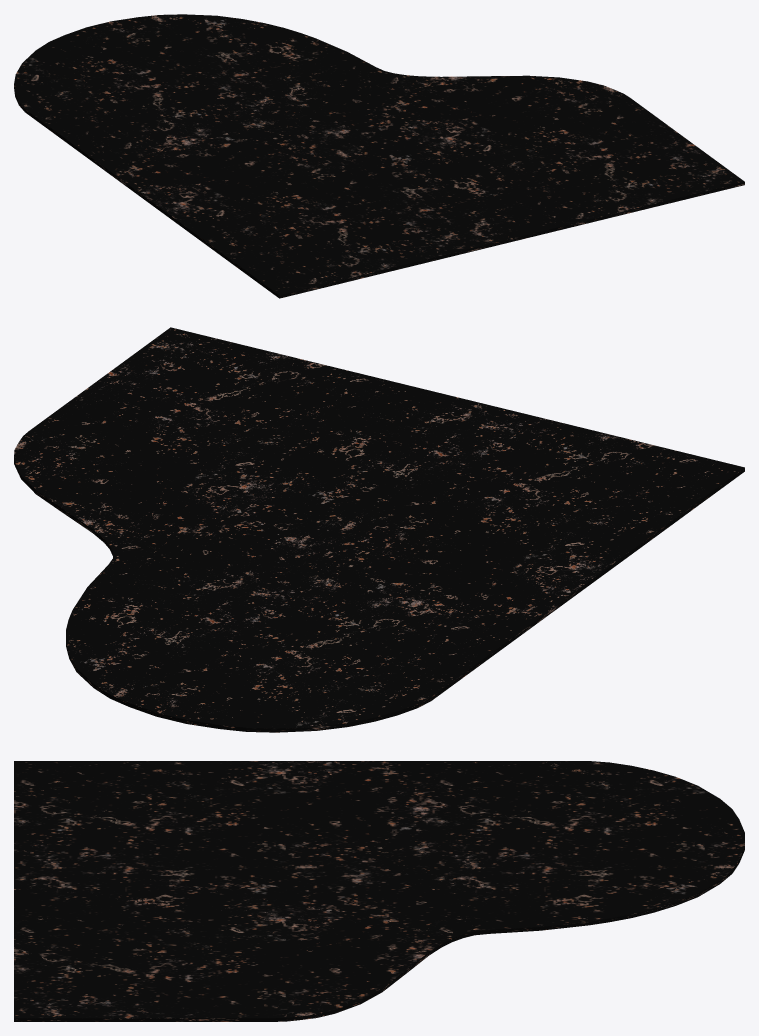
File: piano_lid.obj
3 views of the same model, one above another, from view 1: azimuth 30°, elevation 25°; view 2: azimuth 150°, elevation 25°; view 3: azimuth 270°, elevation 25° (orthographic). The views are drawn at different scales.
Visible parts, largest first — view 1: box.001_Cube.031; view 2: box.001_Cube.031; view 3: box.001_Cube.031.
Part boxes in pixels (x1,y1,x2,y2): box.001_Cube.031: [14, 14, 744, 298]; box.001_Cube.031: [14, 327, 744, 732]; box.001_Cube.031: [14, 761, 744, 1021].
Size of the model in its own units: 1.88 by 0.0127 by 2.26.
1 material, 1 textured.
